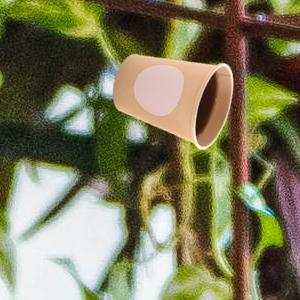cup: (113, 54, 233, 151)
